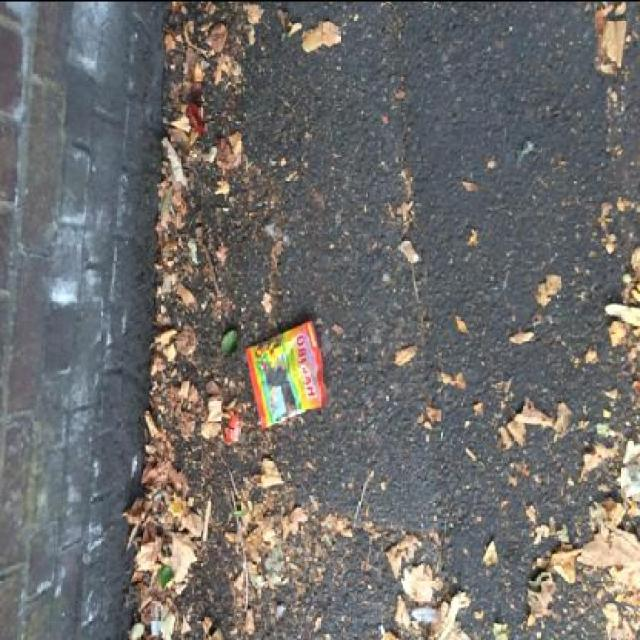plastic: (244, 315, 325, 431)
